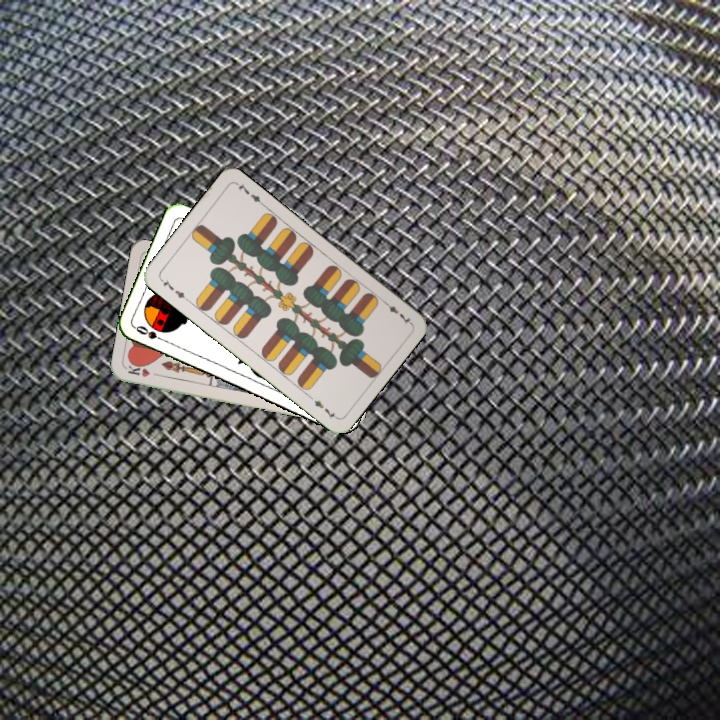E7: (379, 296, 413, 327), (156, 274, 191, 303)
HK: (124, 363, 165, 380)
SO: (132, 321, 170, 345)
